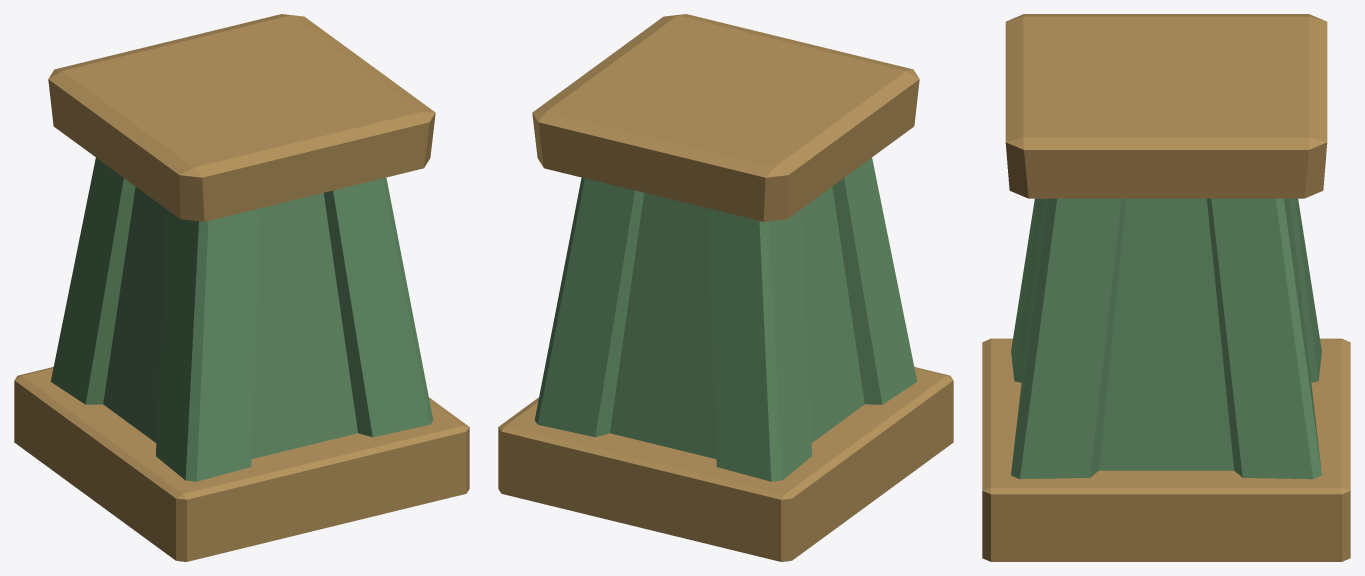
Rendered from old god area props.fbx.
3 renders of one model, left to right at view 1: azimuth 30°, elevation 25°; view 2: azimuth 150°, elevation 25°; view 3: azimuth 270°, elevation 25°, orthographic. The views are drawn at different scales.
Visible parts, largest first — view 1: Cube.001; view 2: Cube.001; view 3: Cube.001.
Part boxes in pixels (box(x1,y1,x2,y2)): Cube.001: box(14, 14, 469, 561); Cube.001: box(498, 14, 953, 561); Cube.001: box(982, 14, 1350, 561).
Bounding box in the file's own units: 107 × 131 × 107.
